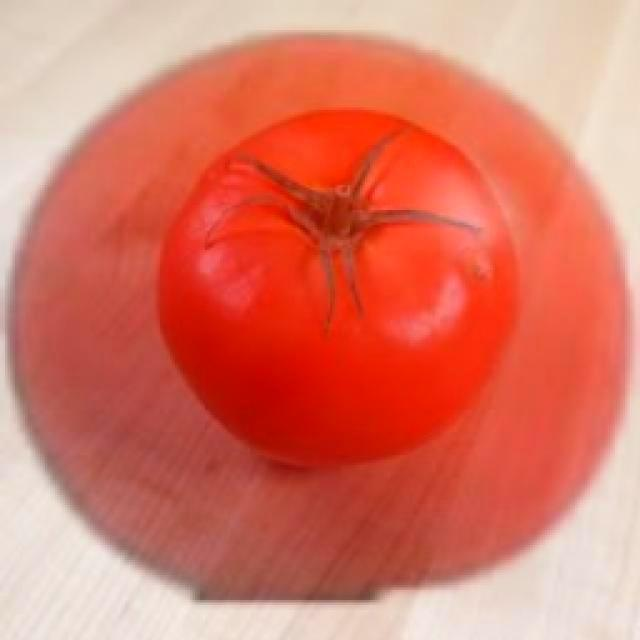tomato: (152, 106, 529, 474)
